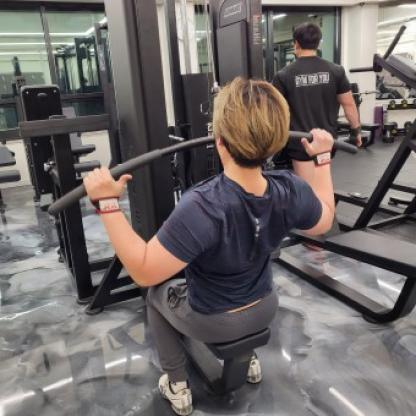Lat Pull Down: (23, 0, 380, 416)
